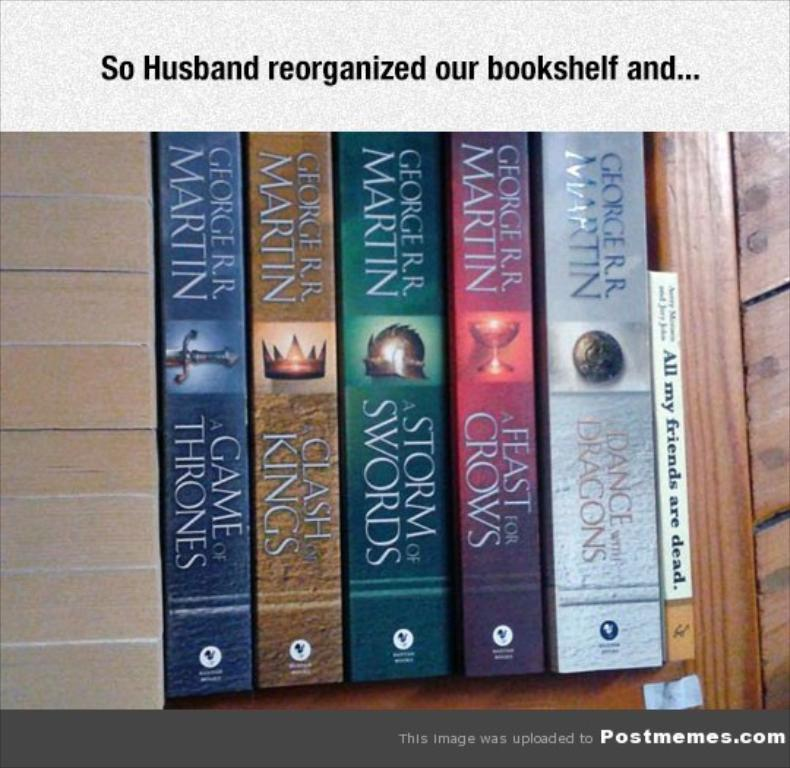Book: (161, 111, 707, 707), (524, 121, 661, 679), (326, 126, 449, 686), (436, 123, 544, 683), (240, 123, 336, 692), (167, 132, 255, 707), (648, 257, 704, 673)
